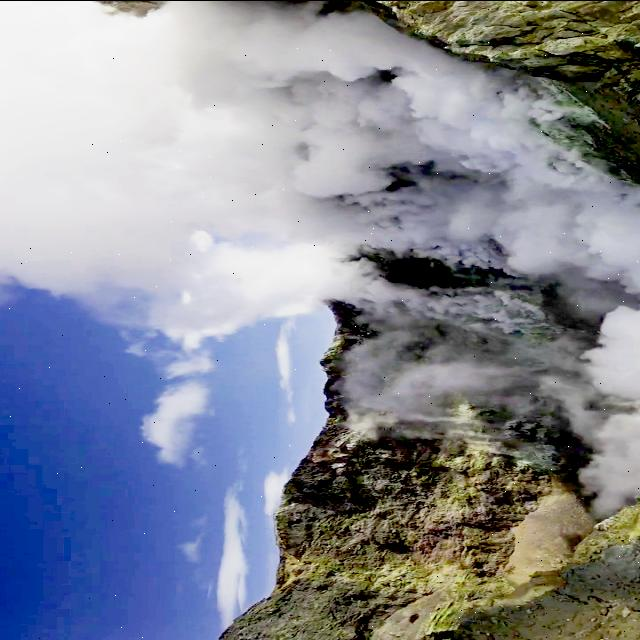asap: (1, 1, 638, 296), (6, 138, 626, 294), (31, 2, 582, 159), (1, 78, 635, 203), (28, 229, 386, 343), (311, 341, 640, 442)
